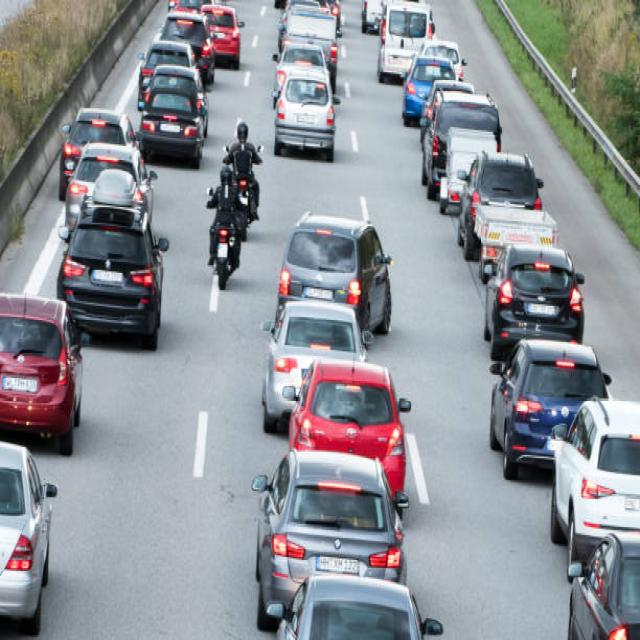moderate_traffic: (52, 21, 596, 600)
